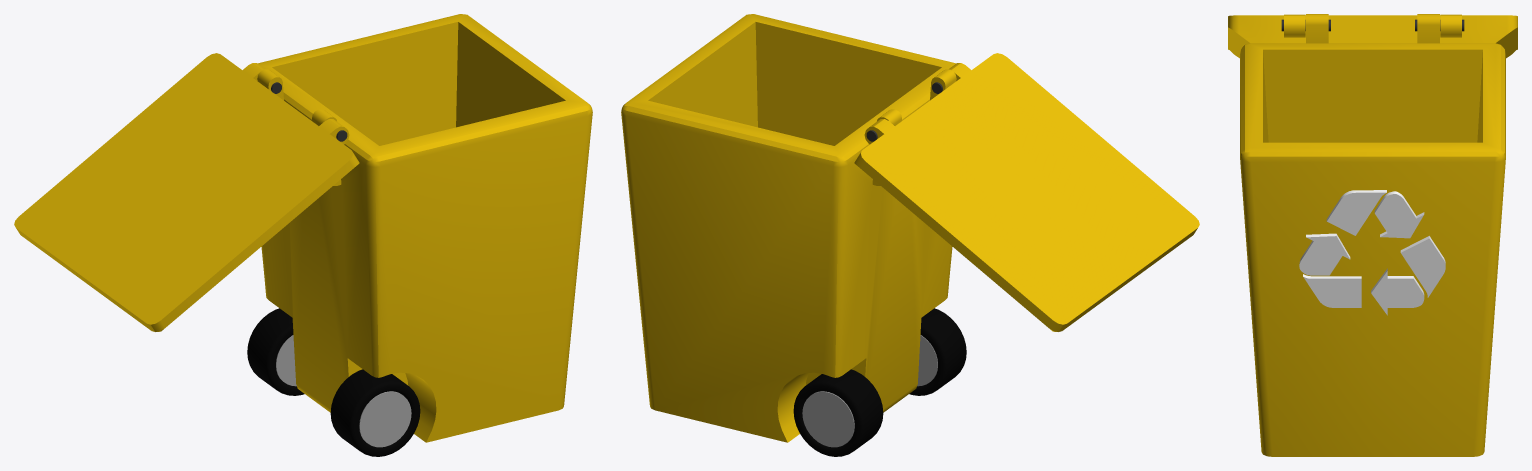
Rendered from Recycle_Bin.glb.
3 renders of one model, left to right at view 1: azimuth 30°, elevation 25°; view 2: azimuth 150°, elevation 25°; view 3: azimuth 270°, elevation 25°, orthographic. The views are drawn at different scales.
Parts seen in each view (by area): view 1: Cube, Cube001, Cylinder, Cylinder001; view 2: Cube, Cube001, Cylinder, Cylinder001; view 3: Cube, Plane003, Cube001.
Boxes of the visible parts, x1,y1,x2,y2 form: Cube: [257, 14, 592, 442]; Cube001: [14, 53, 359, 331]; Cylinder: [247, 308, 420, 456]; Cylinder001: [276, 335, 411, 447]; Cube: [621, 14, 956, 442]; Cube001: [854, 53, 1199, 331]; Cylinder: [793, 308, 966, 456]; Cylinder001: [802, 335, 937, 447]; Cube: [1240, 14, 1505, 456]; Plane003: [1299, 190, 1445, 315]; Cube001: [1228, 14, 1517, 58].
Bounding box in the file's own units: 4.79 × 3.38 × 2.6.
